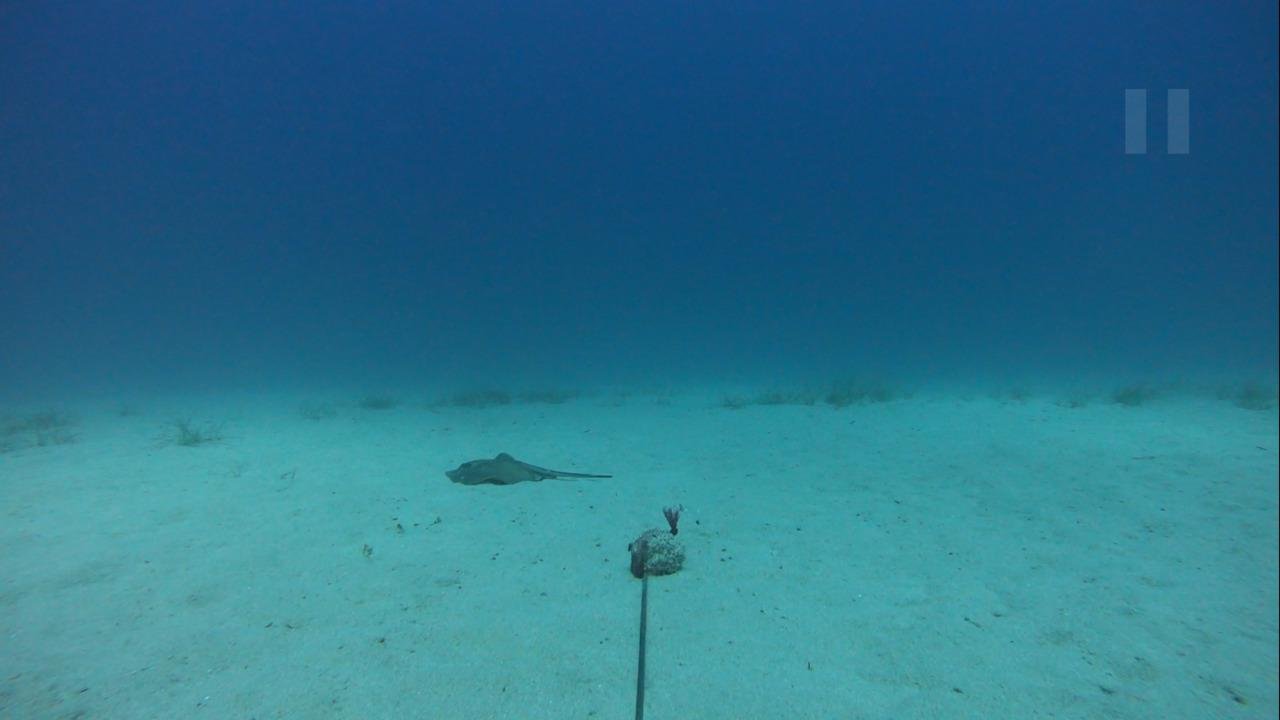myliobatis: (442, 443, 614, 492)
